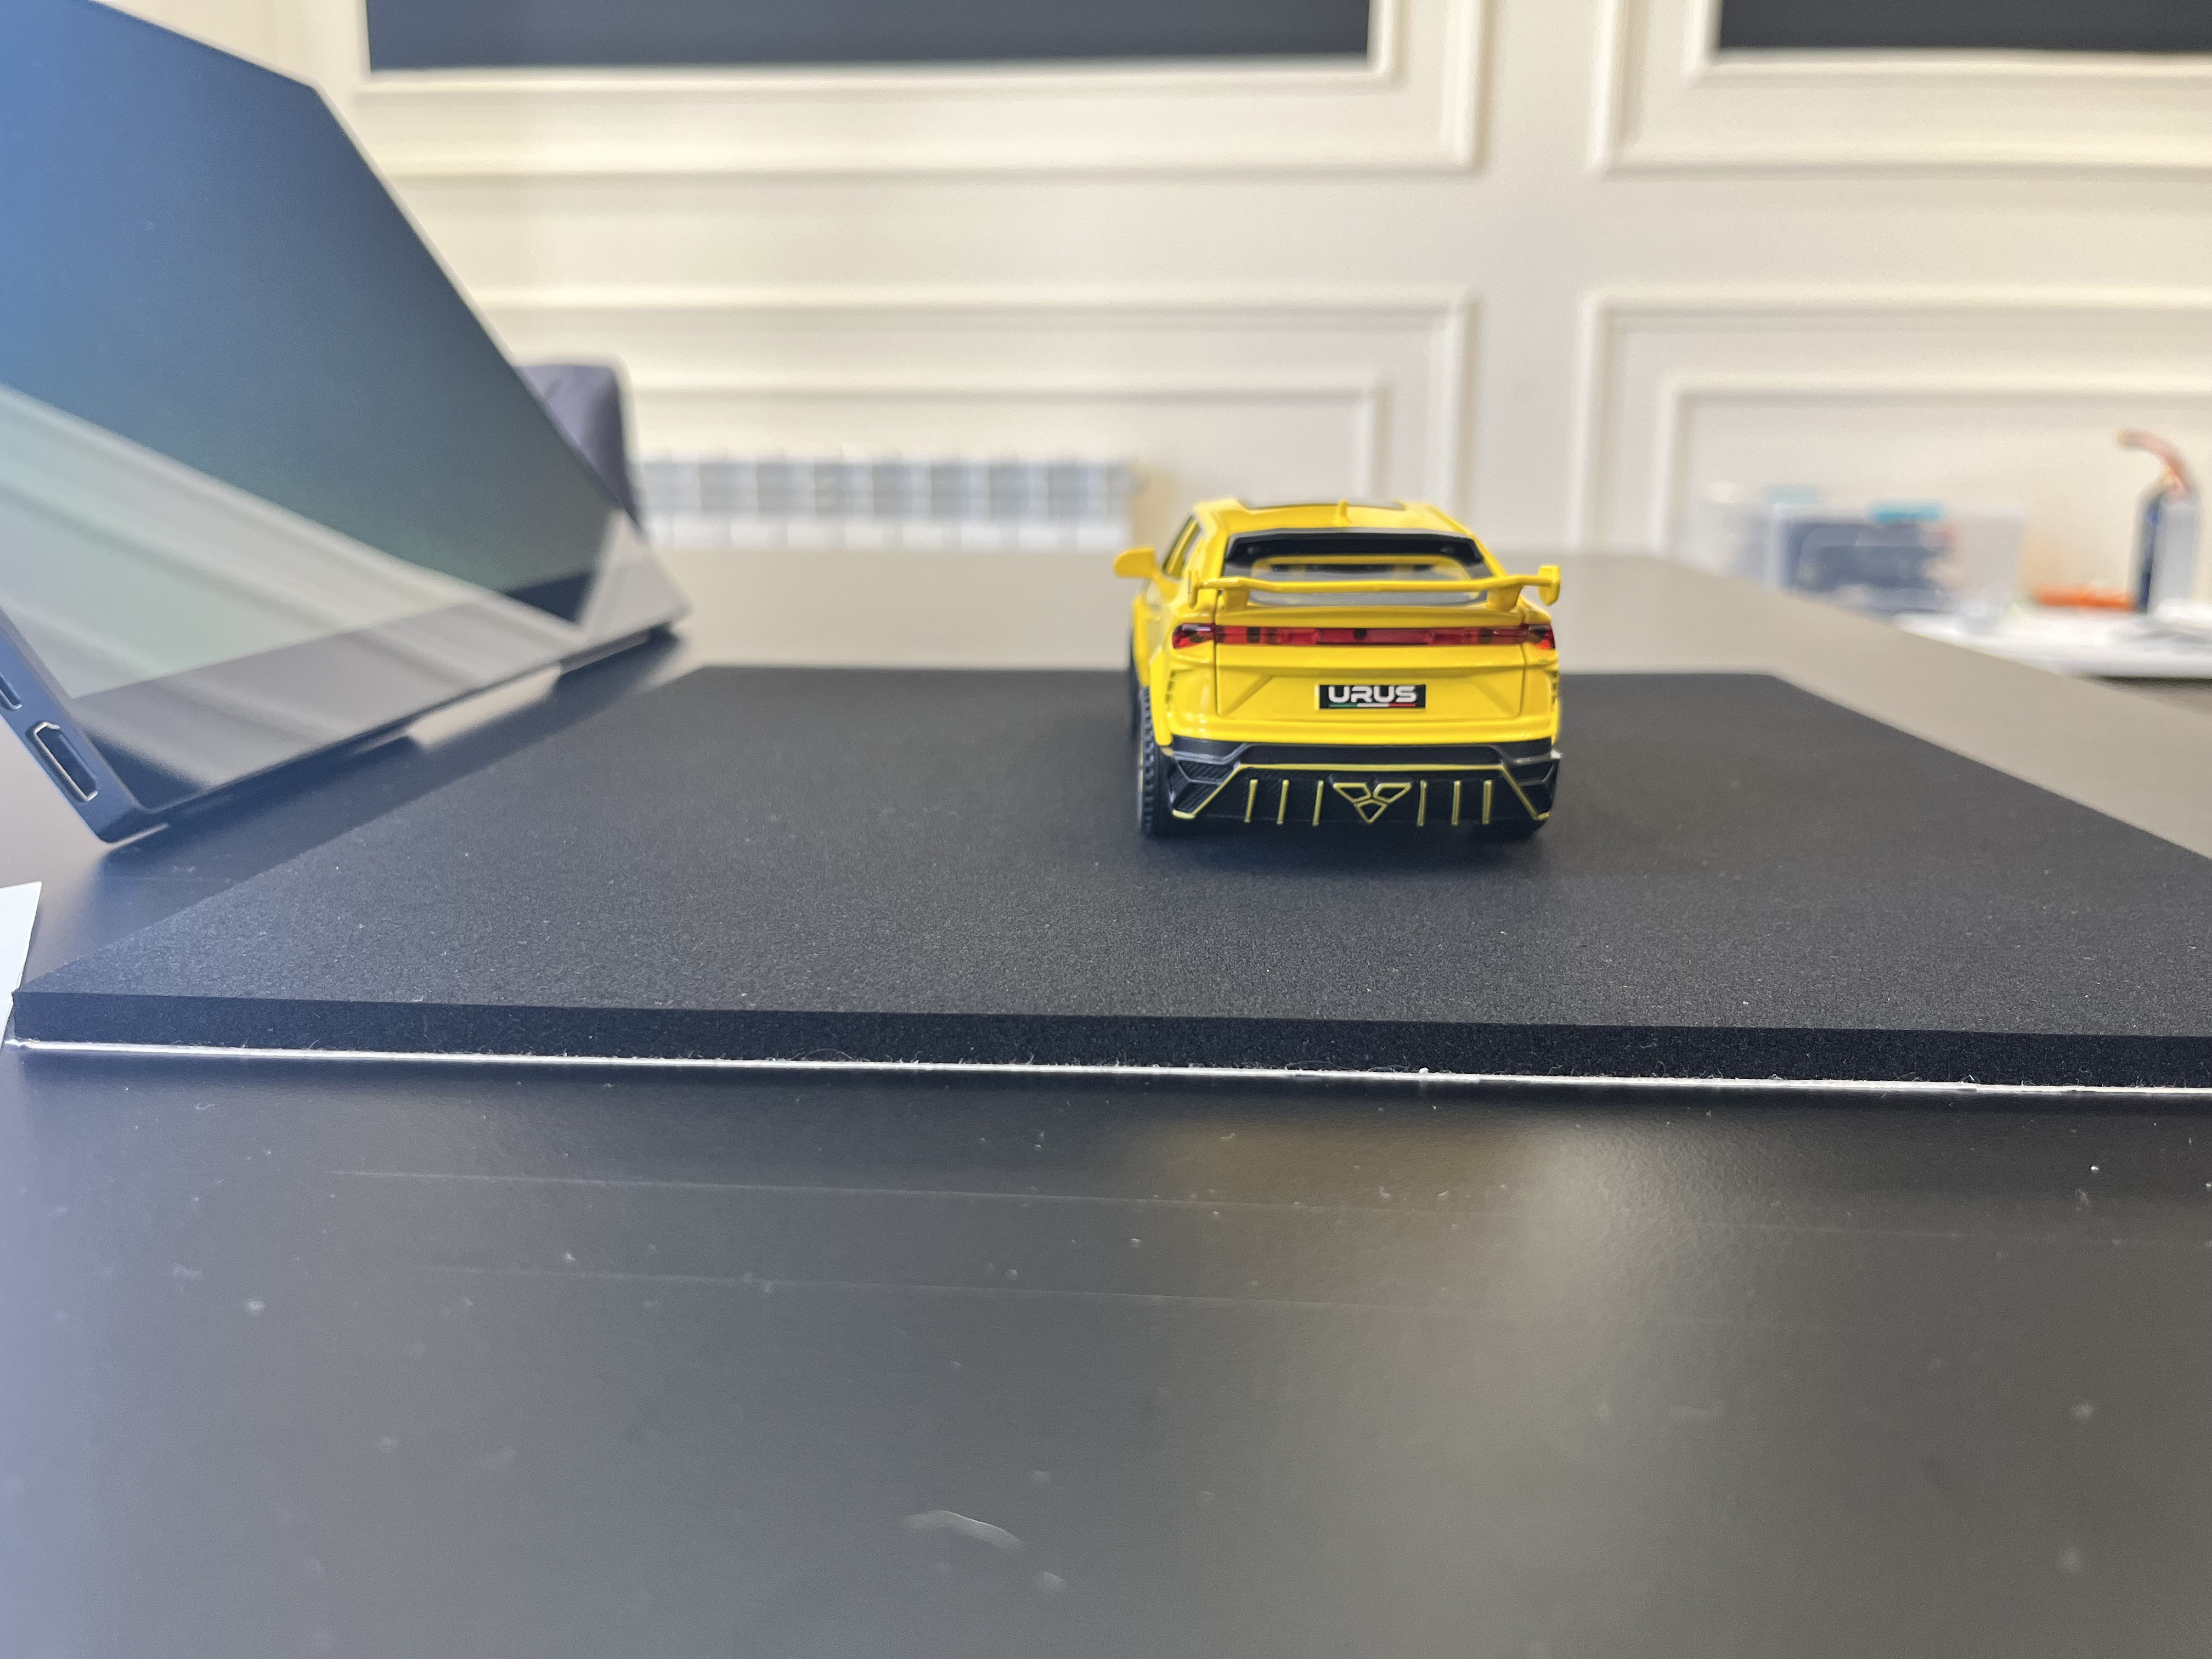lambo: (1106, 490, 1564, 856)
